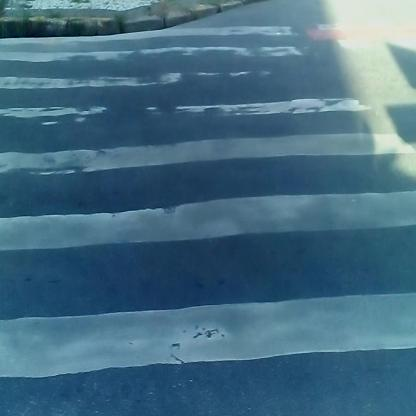crosswalk: (3, 22, 390, 397)
